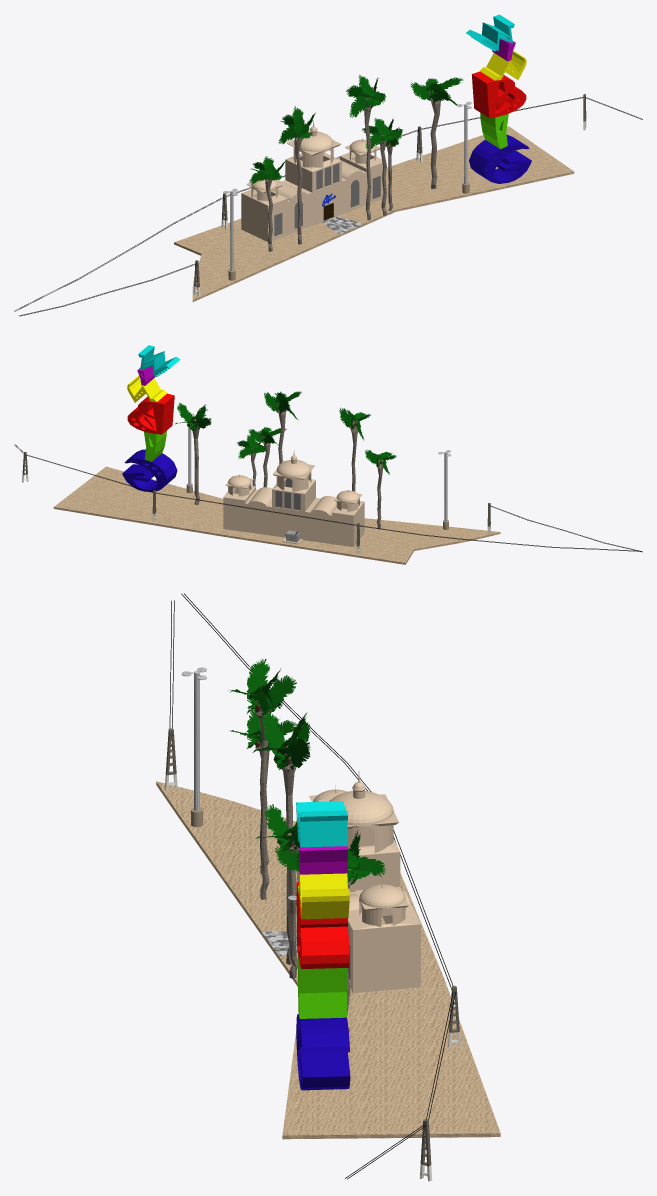
The model's file is Hotel California.glb.
3 views of the same model, one above another, from view 1: azimuth 30°, elevation 25°; view 2: azimuth 150°, elevation 25°; view 3: azimuth 270°, elevation 25° (orthographic). The views are drawn at different scales.
Visible parts, largest first — view 1: Ground, Ext Wa;;s, Art, Branches, Trunk, LV Wires.002, Windows, Post, LV Pole.001; view 2: Ground, Ext Wa;;s, Art, Branches, Trunk, LV Wires.002, Post, LV Pole.001, Windows; view 3: Ground, Art, Ext Wa;;s, Branches, Trunk, LV Wires.002, LV Pole.001, Post.
Part boxes in pixels (x1,y1,x2,y2): Ground: [174, 126, 574, 301]; Ext Wa;;s: [241, 120, 386, 241]; Art: [466, 14, 531, 183]; Branches: [249, 75, 463, 183]; Trunk: [265, 90, 440, 251]; LV Wires.002: [14, 97, 642, 316]; Windows: [274, 156, 380, 236]; Post: [223, 101, 471, 280]; LV Pole.001: [193, 94, 586, 296]; Ground: [53, 466, 500, 564]; Ext Wa;;s: [223, 450, 364, 546]; Art: [122, 345, 180, 491]; Branches: [175, 391, 396, 474]; Trunk: [192, 403, 383, 528]; LV Wires.002: [14, 444, 642, 552]; Post: [186, 413, 451, 529]; LV Pole.001: [22, 452, 490, 554]; Windows: [275, 478, 300, 510]; Ground: [156, 781, 500, 1139]; Art: [296, 801, 350, 1090]; Ext Wa;;s: [297, 771, 420, 993]; Branches: [228, 659, 385, 884]; Trunk: [254, 698, 352, 1031]; LV Wires.002: [169, 593, 455, 1179]; LV Pole.001: [164, 728, 460, 1181]; Post: [181, 667, 296, 900].
Bounding box in the file's own units: 101 × 22.95 × 25.61.
33 materials, 4 textured.
